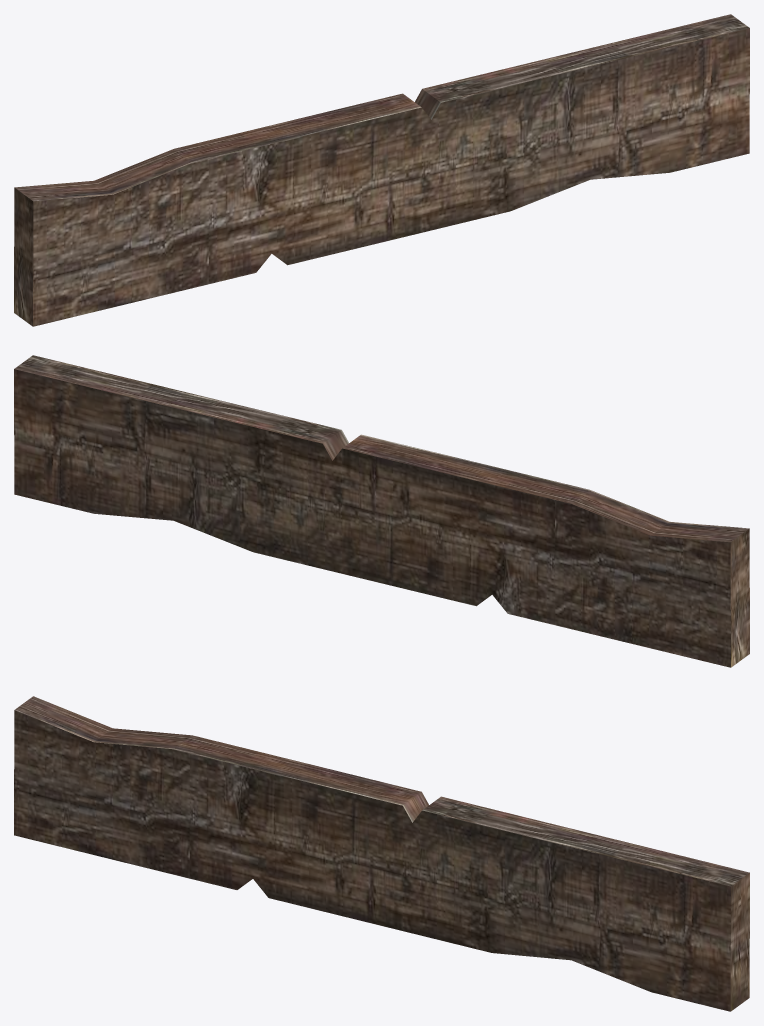
The model's file is FencePlank4.fbx.
3 renders of one model, top to bottom at view 1: azimuth 30°, elevation 25°; view 2: azimuth 150°, elevation 25°; view 3: azimuth 330°, elevation 25°, orthographic.
Visible parts, largest first — view 1: FencePlank4; view 2: FencePlank4; view 3: FencePlank4.
Part boxes in pixels (bbox=[...]): FencePlank4: bbox=[14, 14, 749, 326]; FencePlank4: bbox=[14, 355, 749, 667]; FencePlank4: bbox=[14, 696, 749, 1011].
Size of the model in its own units: 144 by 24.43 by 6.63.
Materials: 1 (1 with a texture image).
